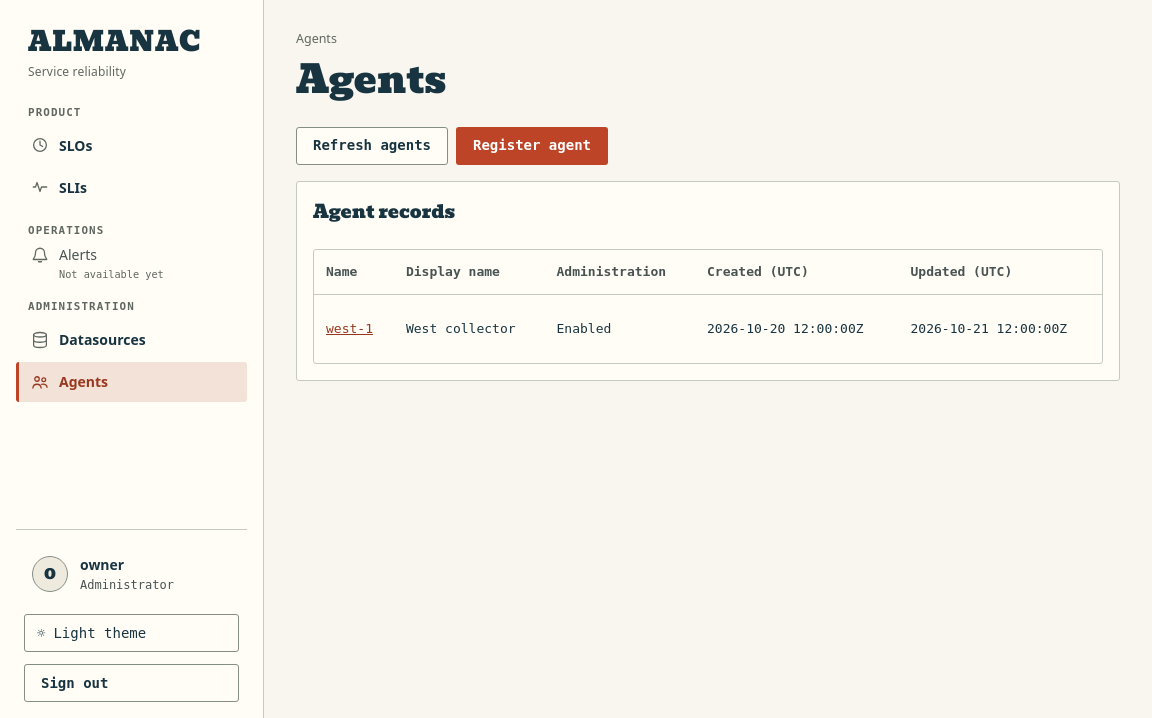
agent administration screen › blocks deletion until all datasource pages are reassigned and refreshed
Click the button "west-1" at {"x": 350, "y": 329}, box [326,307,373,351]
(page scrolled)
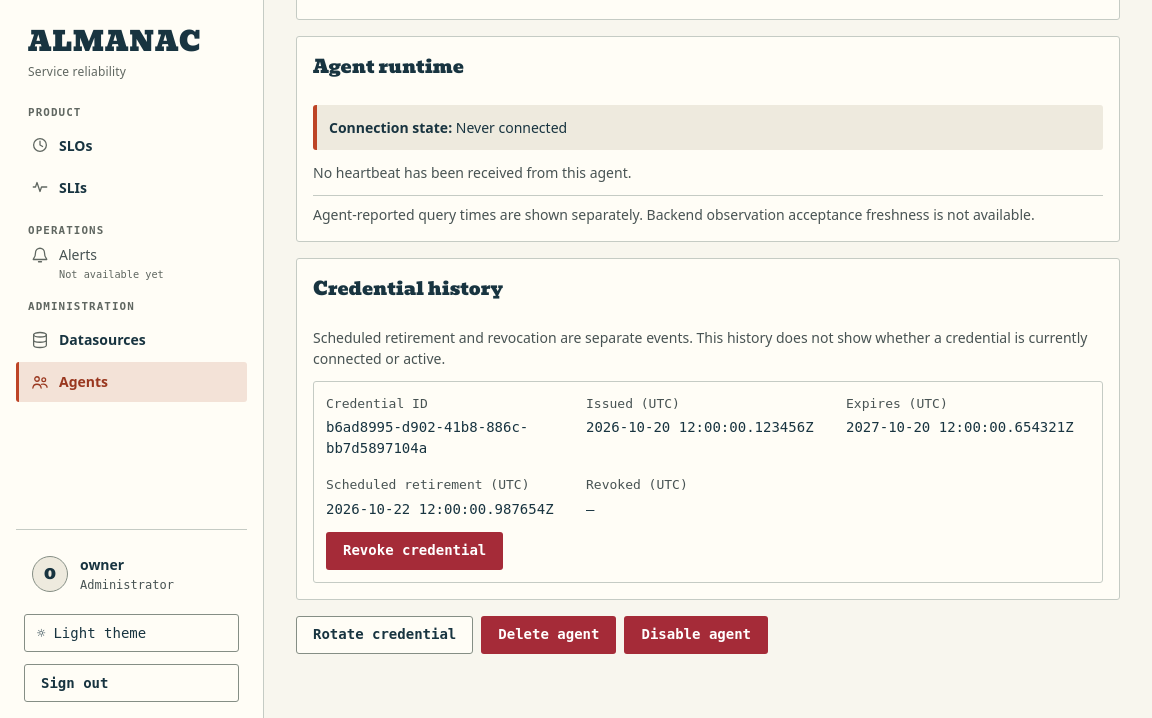
Click the button "Delete agent" at {"x": 549, "y": 635}, box [481,616,616,654]
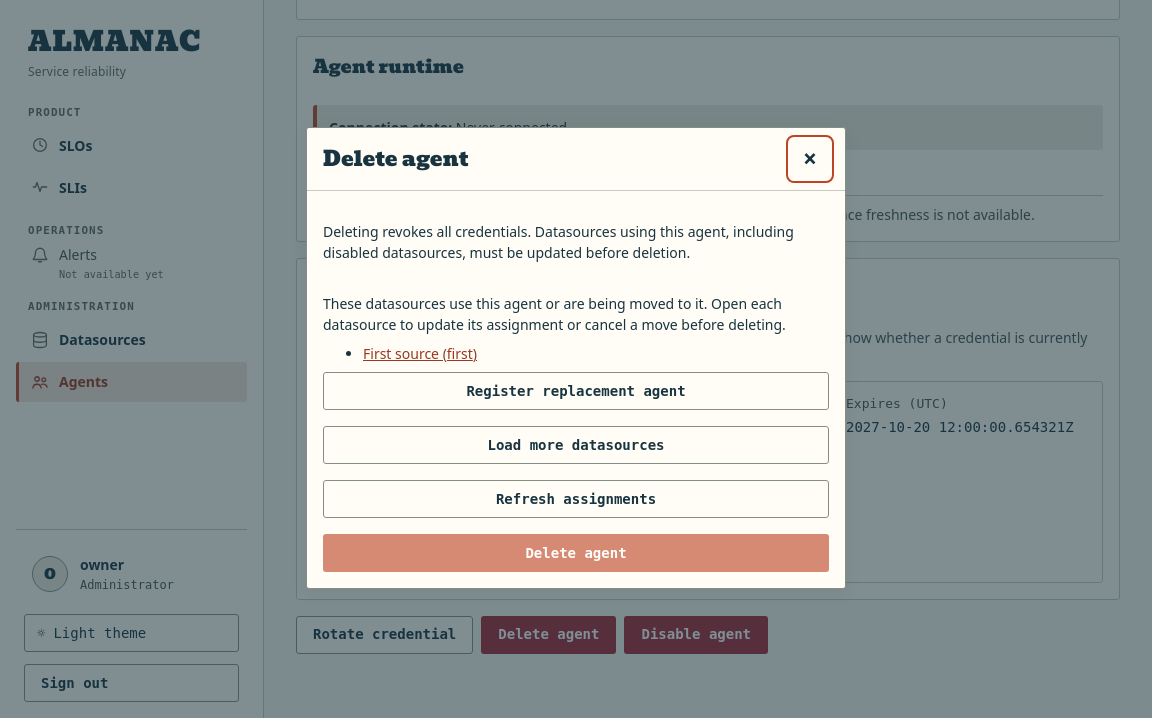
Expected: the text "are being moved to it" is shown, [323,294,786,334]
Click the button "Load more datasources" at {"x": 576, "y": 445}, box [323,426,829,464]
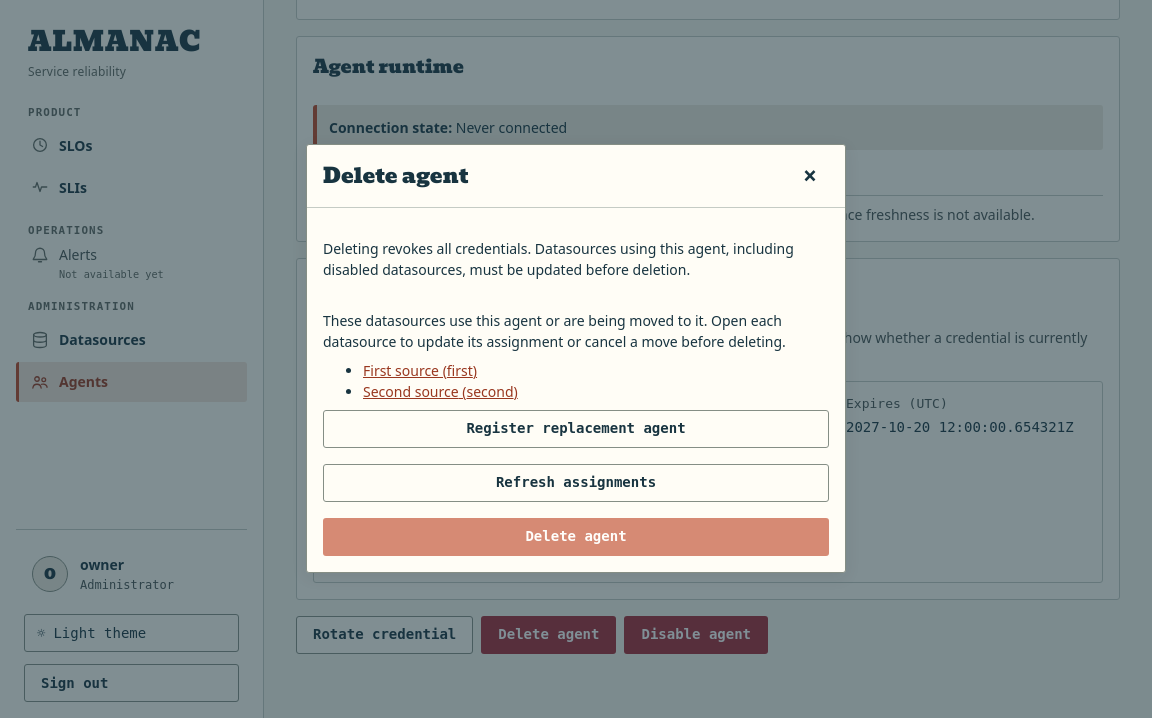
Expected: the button "Delete agent" is disabled, [323,518,829,556]
Expected: the link "Second source (second)" is shown, [363,382,518,400]
Click the button "Refresh assignments" at {"x": 576, "y": 482}, box [323,464,829,502]
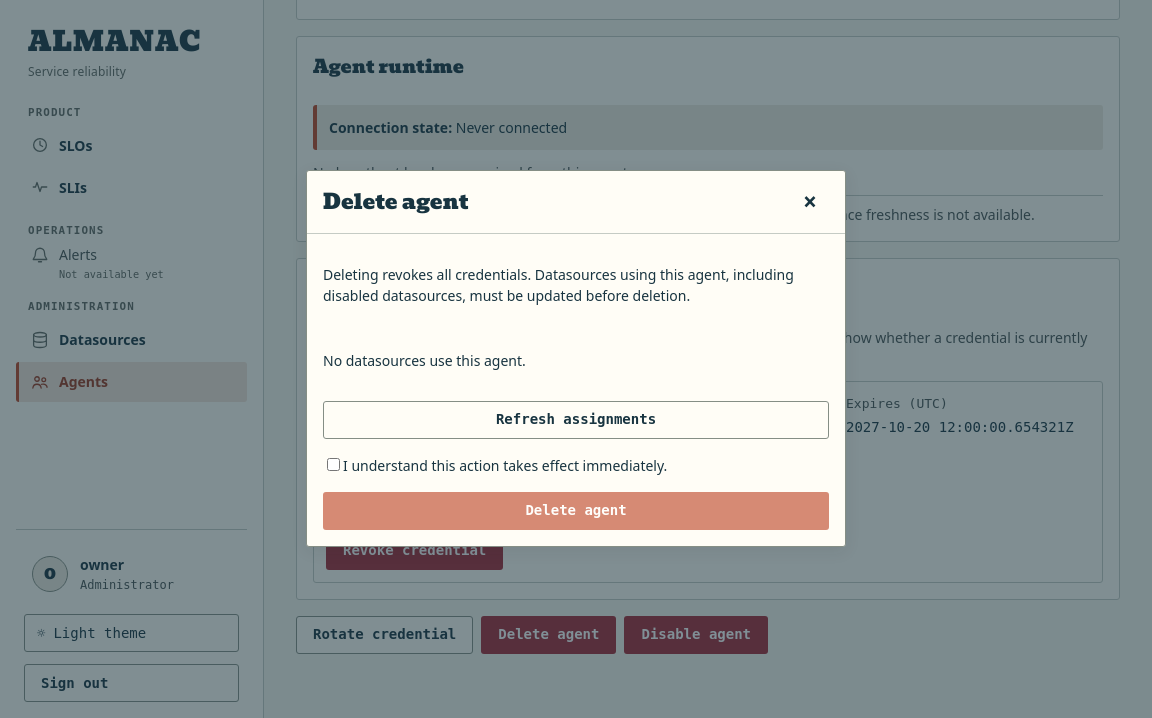
Expected: the text "No datasources use this agent." is shown, [323,350,526,370]
Click the checkbox at {"x": 334, "y": 464}, box [327,458,340,470]
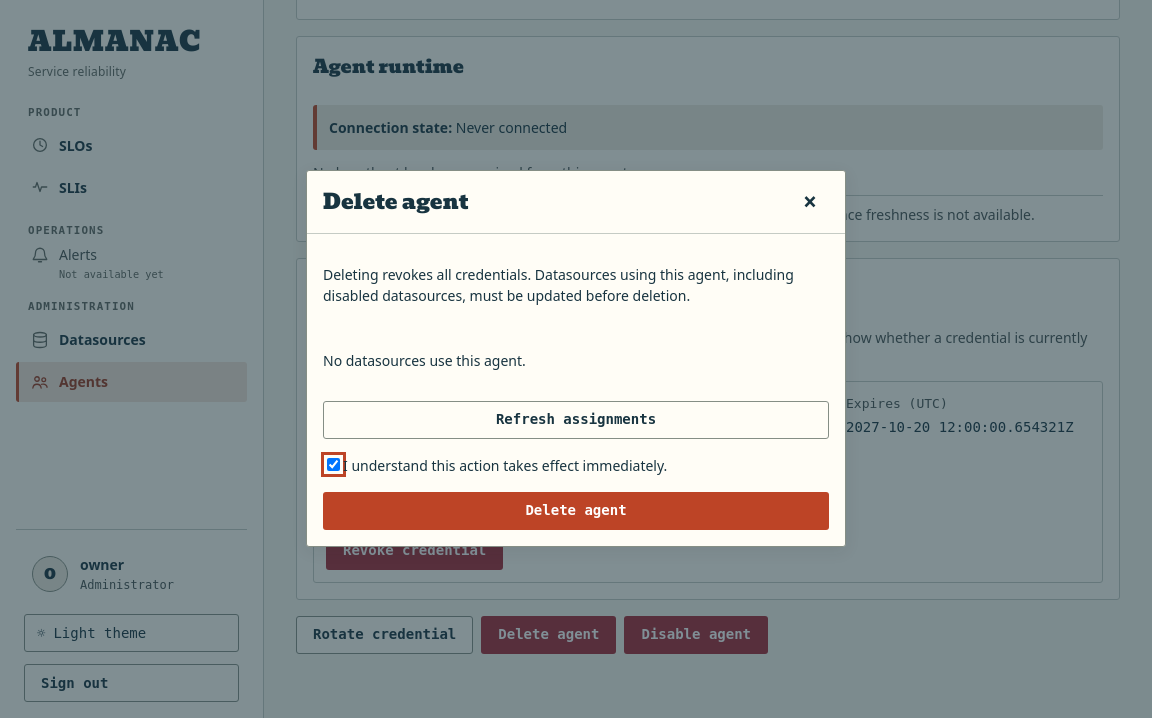
Click the button "Delete agent" at {"x": 576, "y": 510}, box [323,492,829,530]
(page scrolled)
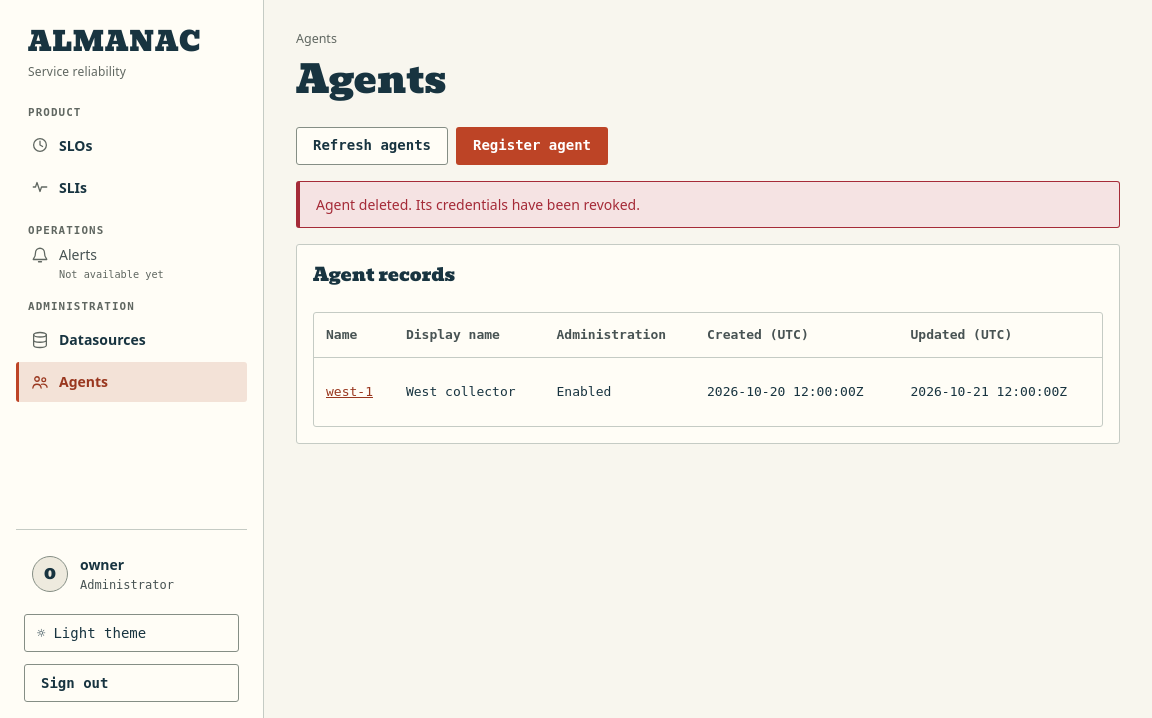
Expected: the button "west-1" is shown, [326,370,373,414]
Expected: the message shows "Agent deleted", [316,195,640,214]
